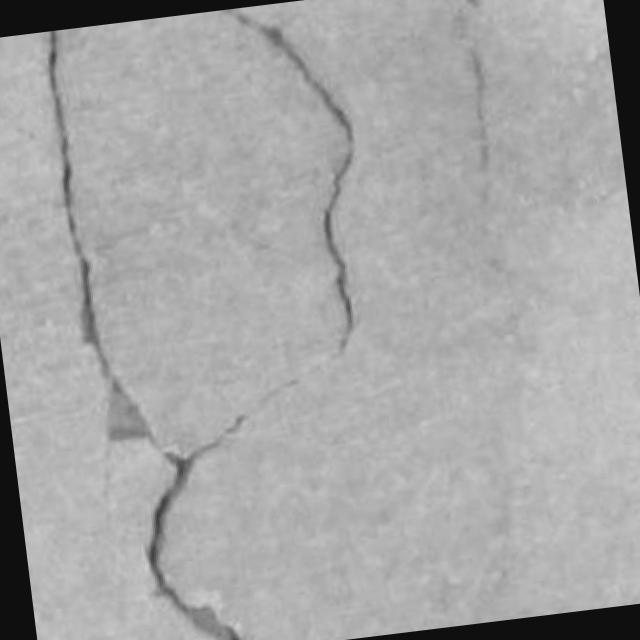crack: (221, 9, 354, 352), (46, 30, 154, 446), (145, 415, 245, 639), (46, 31, 106, 376), (145, 453, 239, 639), (467, 43, 490, 172), (468, 46, 490, 172)
